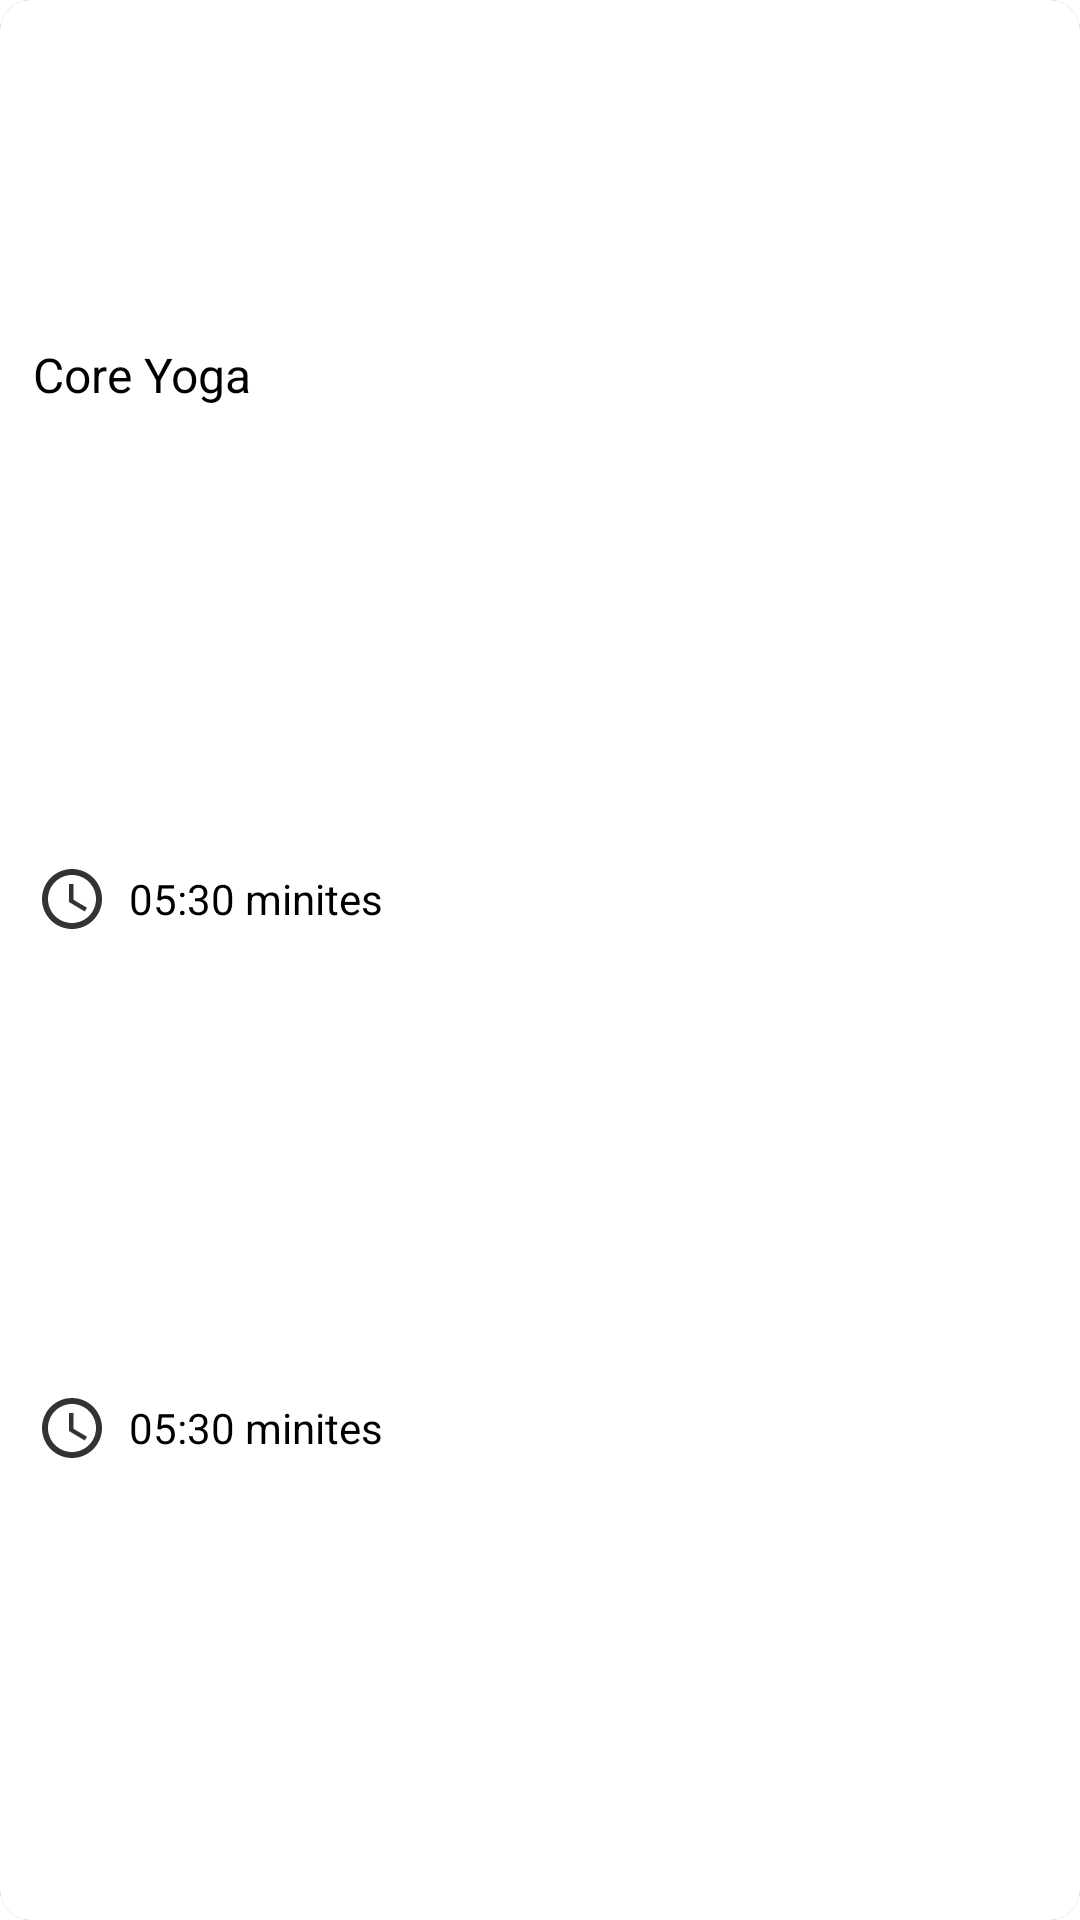

Locate icon controls on the screen. Image size 1080px x 1920px, boxes as (x1, y1, x2, y2).
duration: (42, 869, 102, 929), (42, 1398, 102, 1458)
